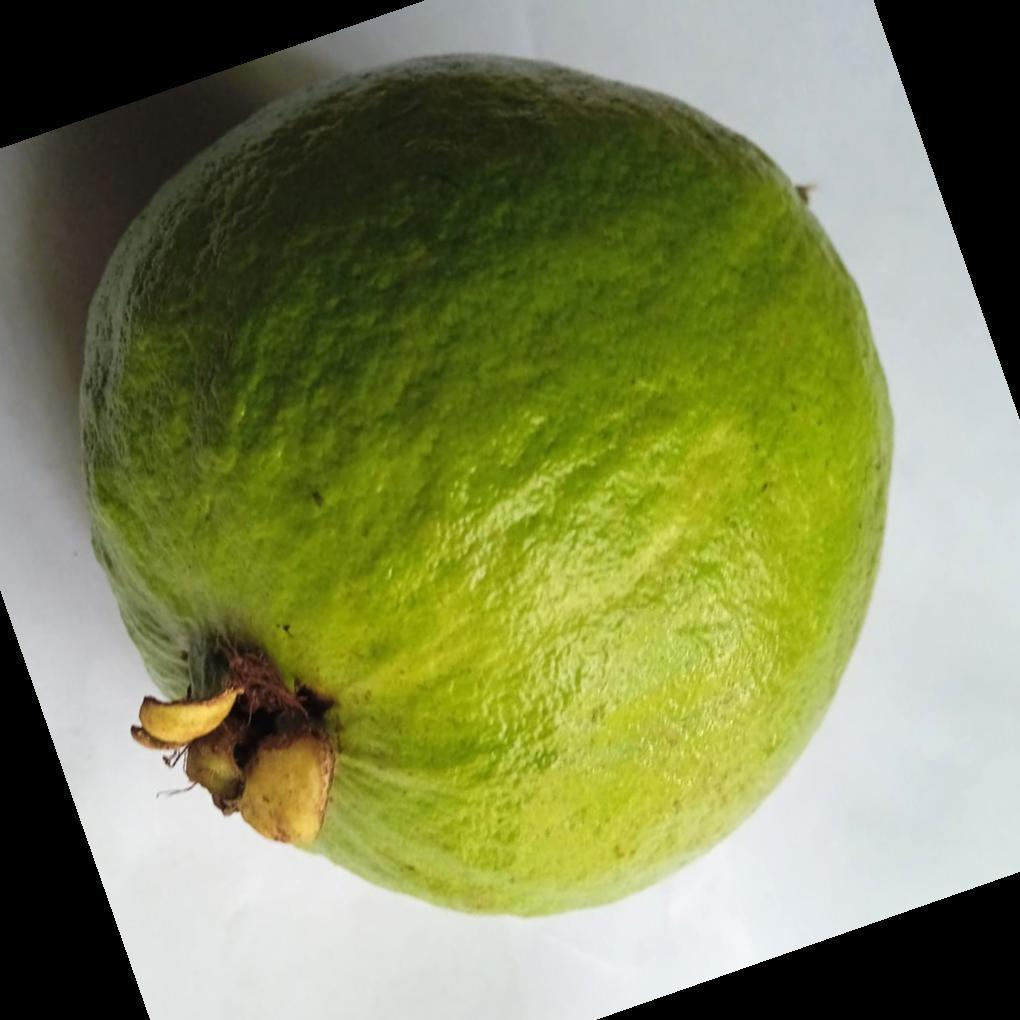FreshGuava: (77, 55, 897, 923)
